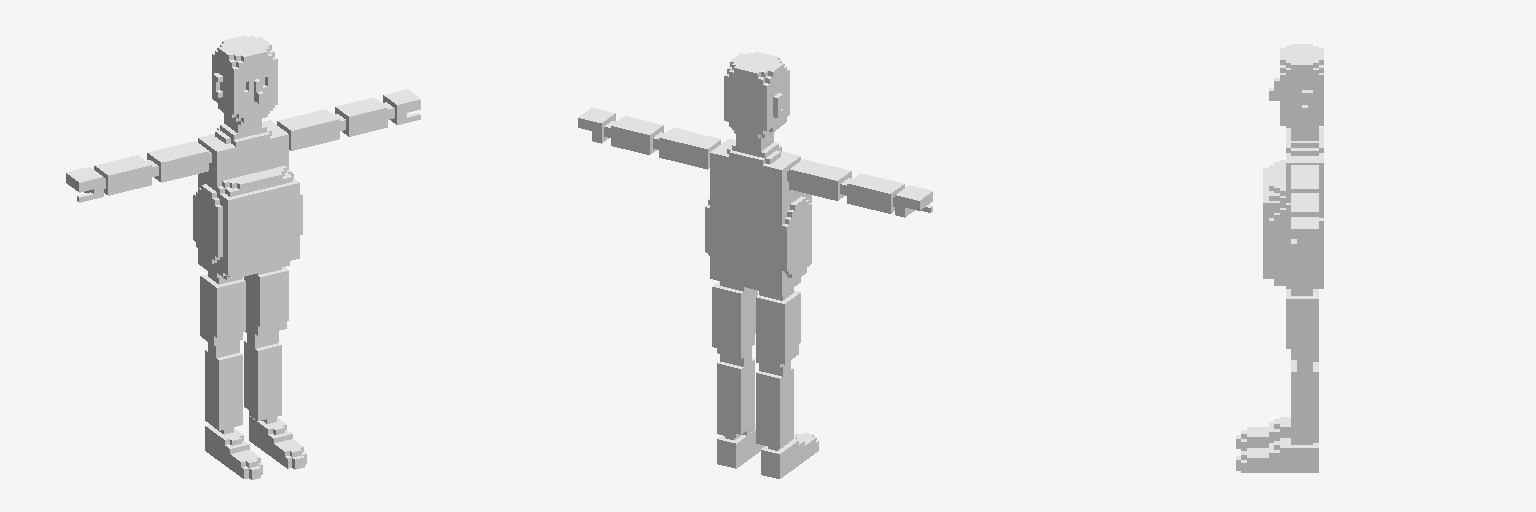
File: fat_zombie.obj
3 views of the same model, side by side, from view 1: azimuth 30°, elevation 25°; view 2: azimuth 150°, elevation 25°; view 3: azimuth 270°, elevation 25° (orthographic).
Parts seen in each view (by area): view 1: fat_zombie; view 2: fat_zombie; view 3: fat_zombie.
Part boxes in pixels (left/top/right/bottom): fat_zombie: left=66, top=35, right=420, bottom=479; fat_zombie: left=578, top=52, right=932, bottom=478; fat_zombie: left=1236, top=44, right=1323, bottom=472.
Bounding box in the file's own units: 71 × 80 × 16.